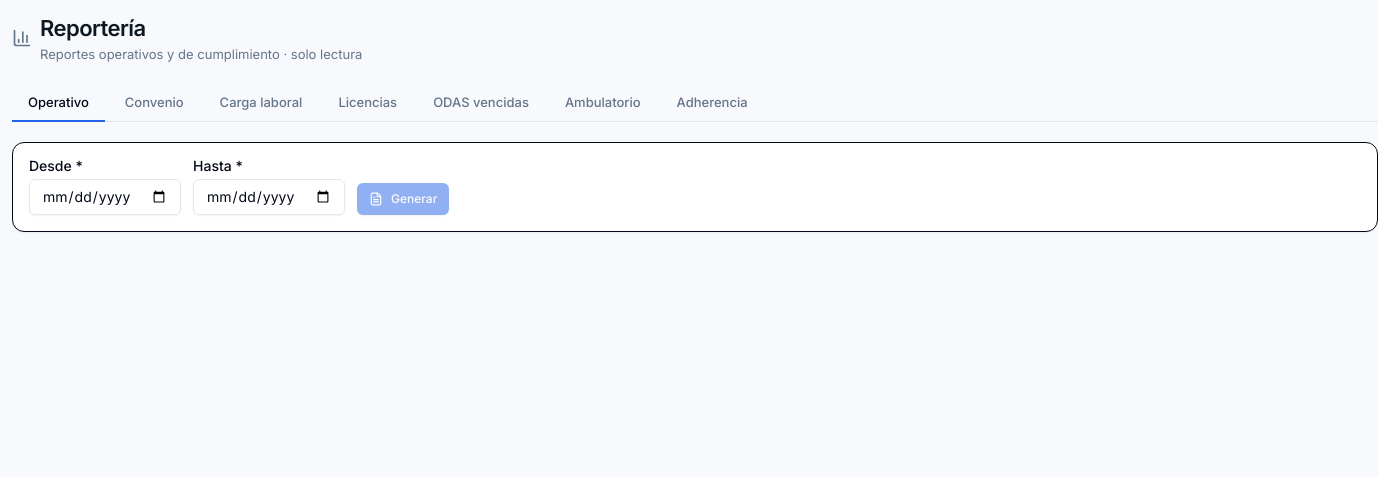
Scenario: ReportesPage — ODA por paciente (QA-006) › Consultar lista paciente, fecha de ingreso, estado del caso y estado de la ODA
Click the button with test id "tab-odas".
click(481, 103)  # box [417,84,545,122]
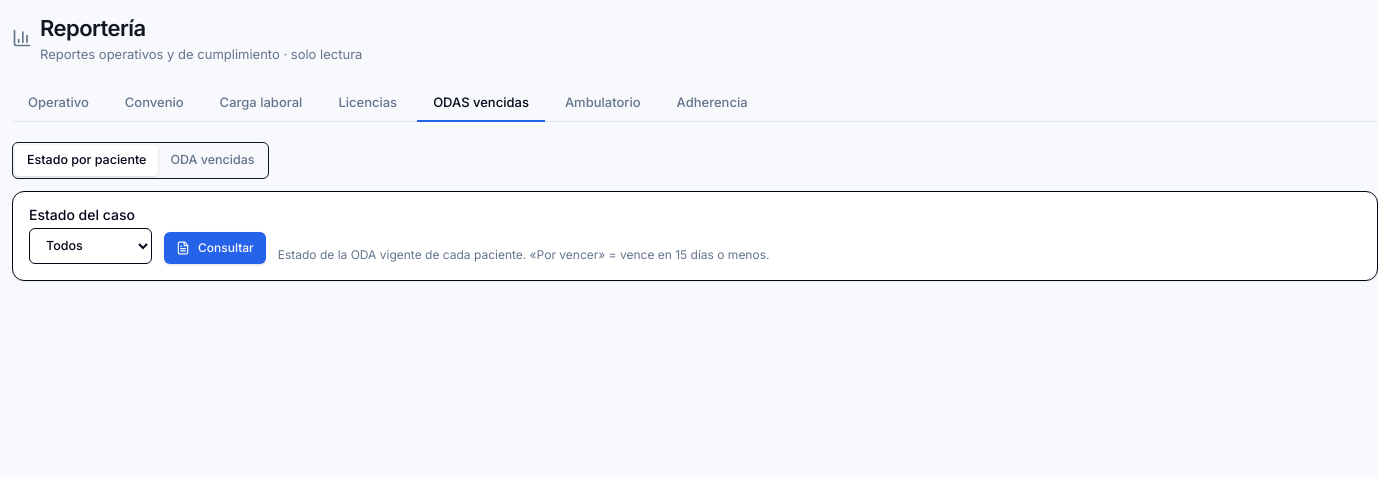
Expected: the text "Ana Activa" is not shown
Click the button with test id "btn-generar-reporte".
click(215, 248)  # box [164,232,266,264]
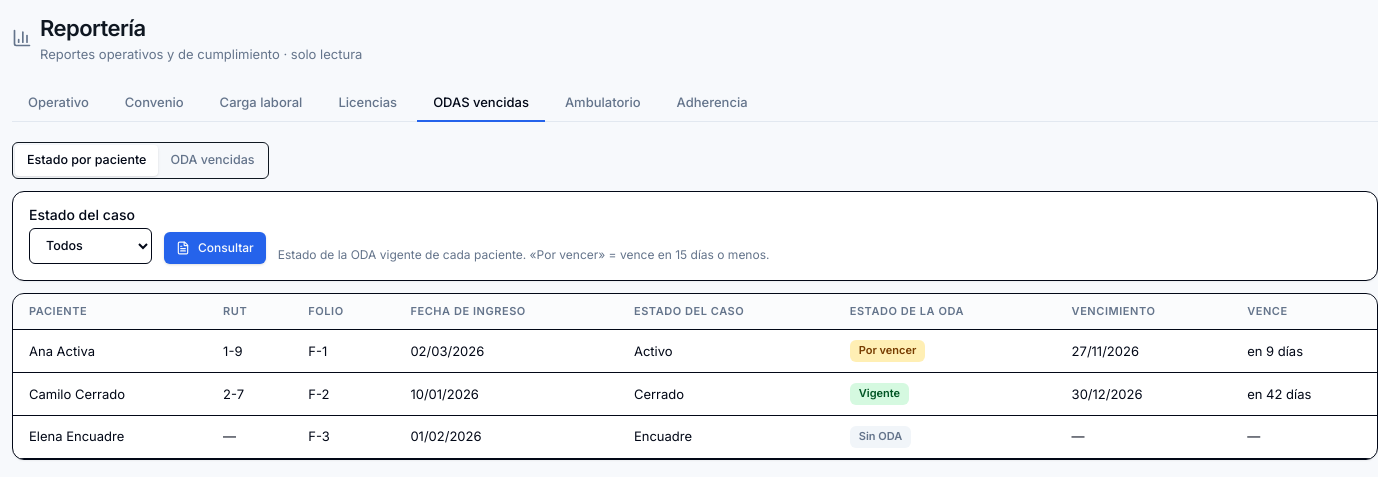
Now the text "Ana Activa" is shown, box [13,330,207,373]
Now the text "Ana Activa" shows "02/03/2026", box [410,343,484,359]
Now the text "Ana Activa" shows "Activo", box [634,343,673,359]
